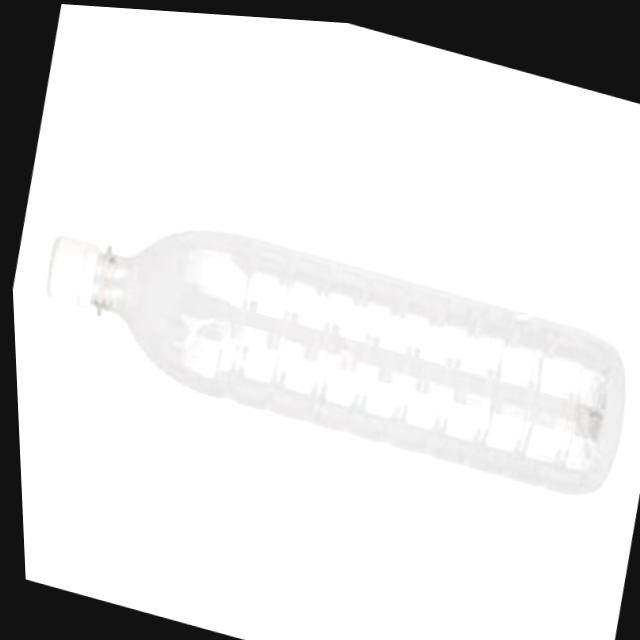anorganik: (5, 148, 640, 526)
